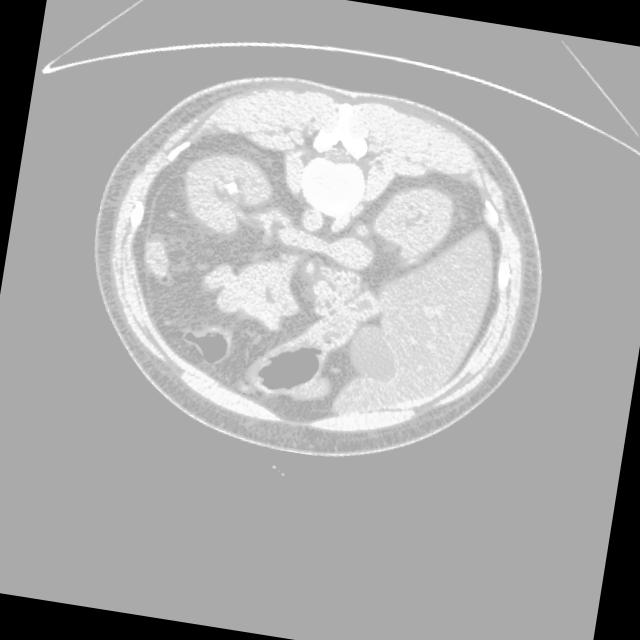STONE: (148, 270, 338, 420)
